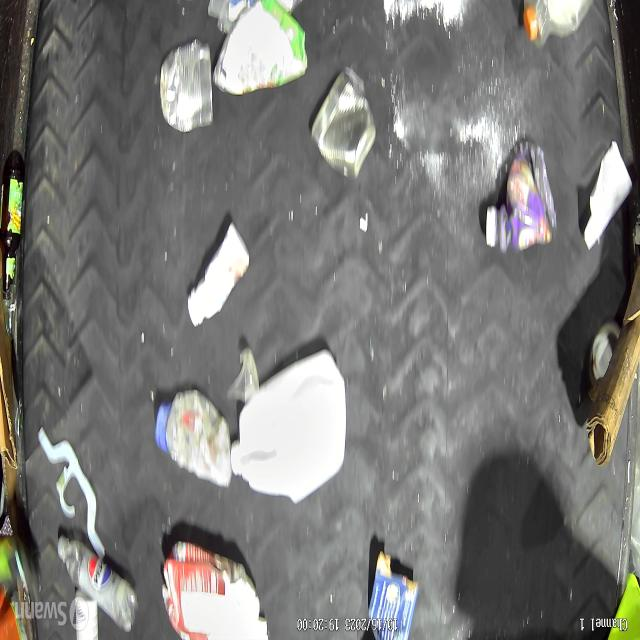can: (310, 64, 378, 183), (157, 36, 215, 136)
milk_jug: (230, 344, 348, 510)
plastic_bottle: (56, 531, 139, 634)
